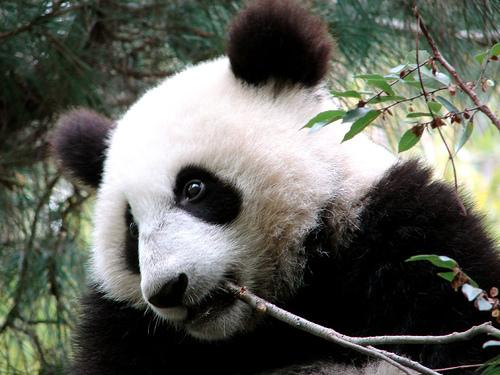panda: (48, 0, 499, 374)
